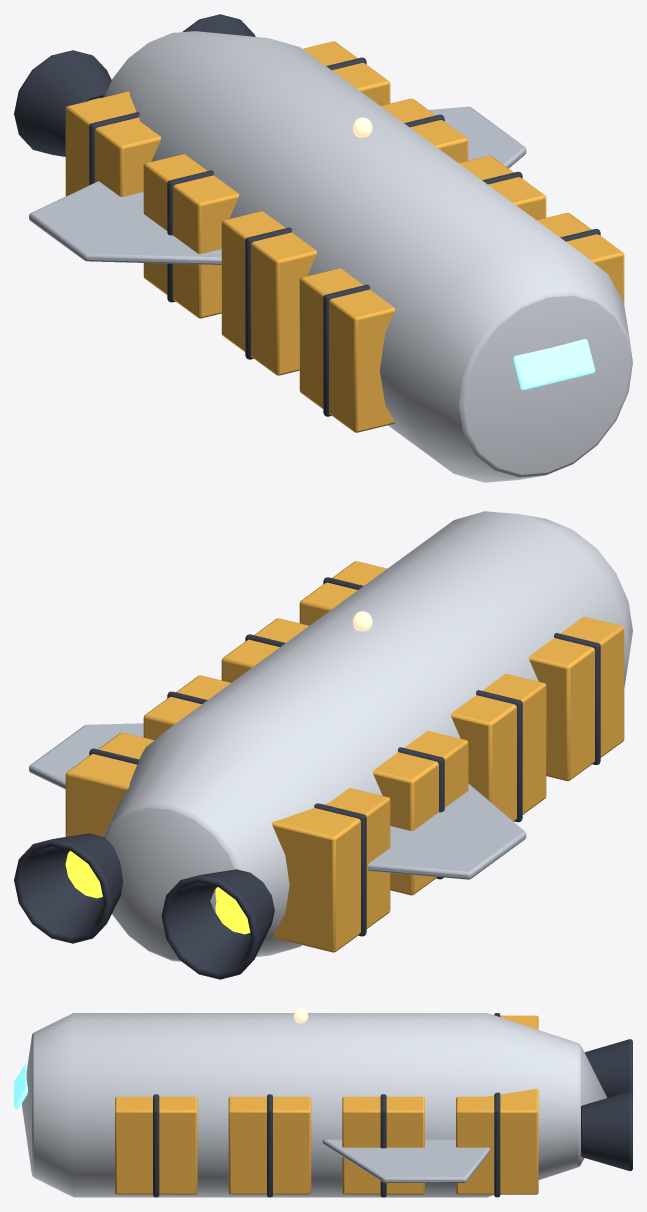
Rendered from frachter.fbx.
3 views of the same model, one above another, from view 1: azimuth 30°, elevation 25°; view 2: azimuth 150°, elevation 25°; view 3: azimuth 270°, elevation 25° (orthographic). The views are drawn at different scales.
Parts seen in each view (by area): view 1: frachter_Koerper; view 2: frachter_Koerper; view 3: frachter_Koerper.
Part boxes in pixels (bbox=[...]): frachter_Koerper: bbox=[14, 14, 632, 482]; frachter_Koerper: bbox=[14, 511, 632, 979]; frachter_Koerper: bbox=[14, 1008, 632, 1197].
Bounding box in the file's own units: 3.6 × 1.93 × 5.99.
